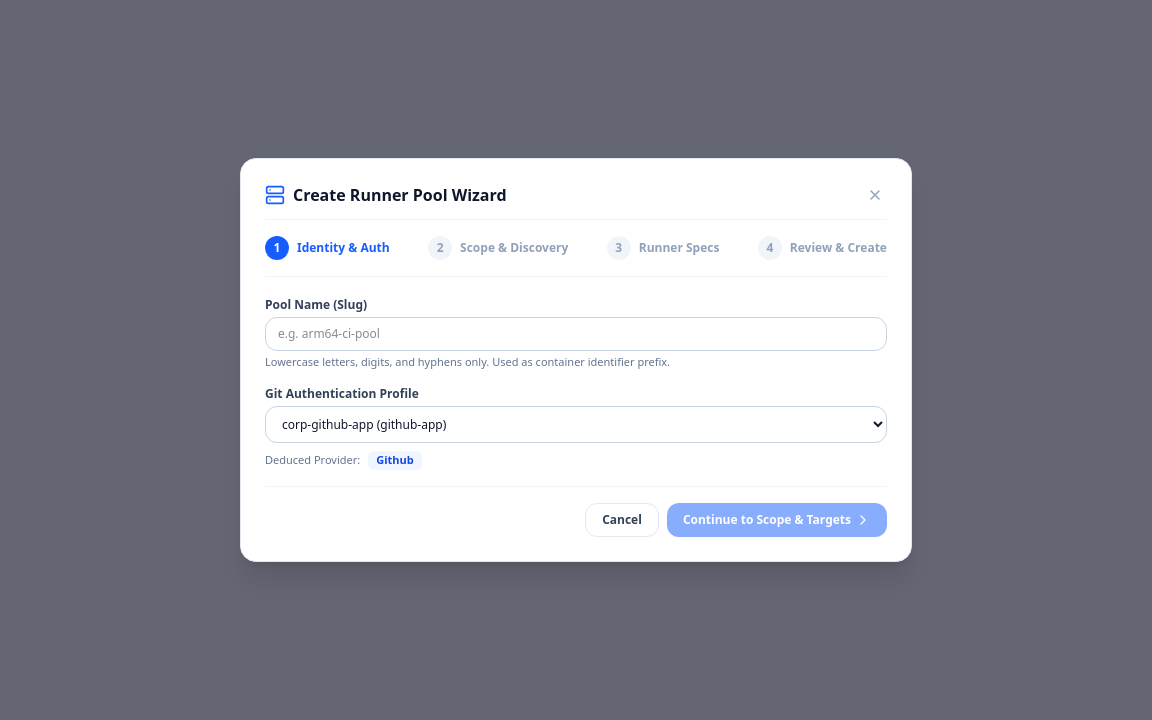
Test: CreatePoolWizardModal › supports multi-target selection and 'Select All Filtered' on Step 2
Type "ci-pool" into the field labelled "Pool Name (Slug)" at (576, 334), box [265,317,887,351]
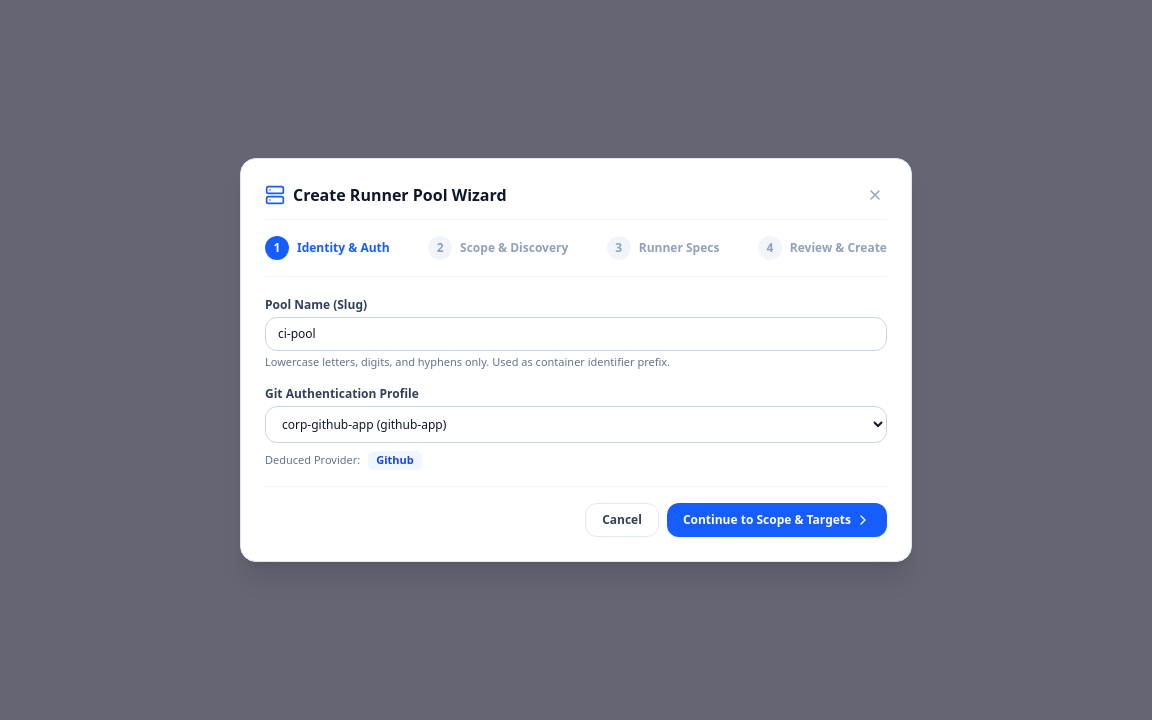
Click the button "Continue to Scope & Targets" at (777, 520), box [667,503,887,537]
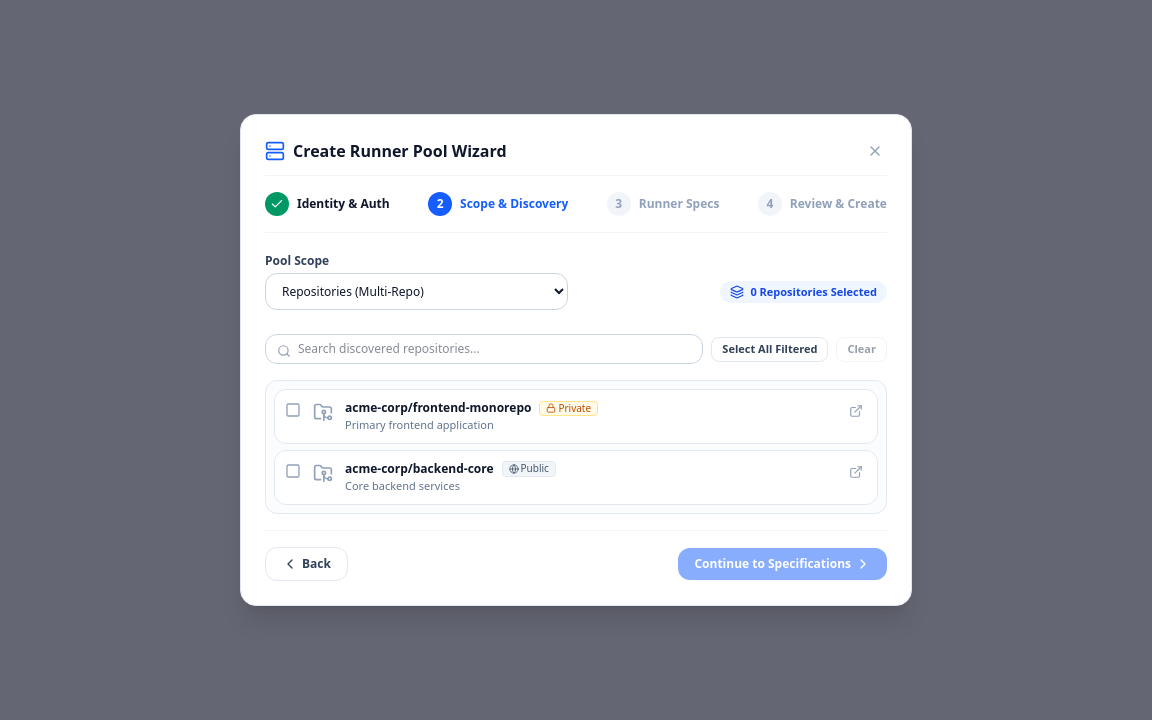
Expected: the text "acme-corp/frontend-monorepo" is shown, [345,400,531,416]
Expected: the text "acme-corp/backend-core" is shown, [345,461,494,477]
Expected: the button "Continue to Specifications" is disabled, [678,548,887,580]
Note: Click "Select All Filtered"
Click the button "Select All Filtered" at (770, 349), box [711,337,828,362]
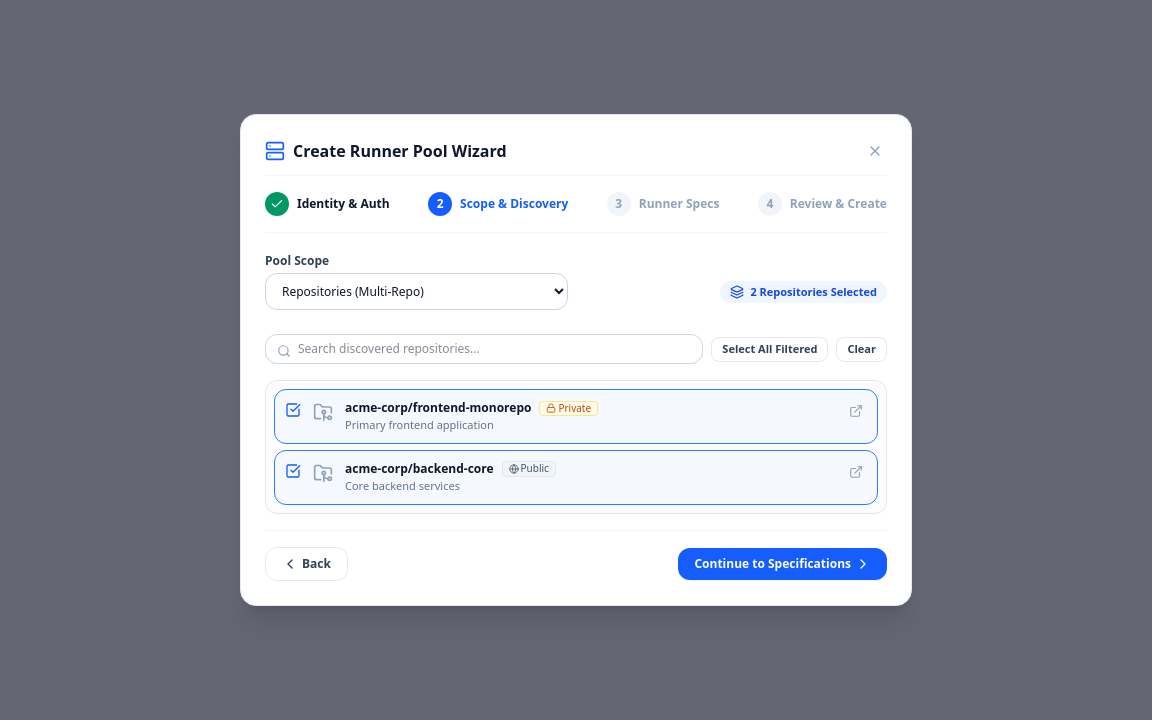
Expected: the text "2 Repositories Selected" is shown, [750,284,877,299]
Expected: the button "Continue to Specifications" is enabled, [678,548,887,580]
Note: Deselect one by clicking its card
Click the text "acme-corp/frontend-monorepo" at (438, 408), box [345,400,531,416]
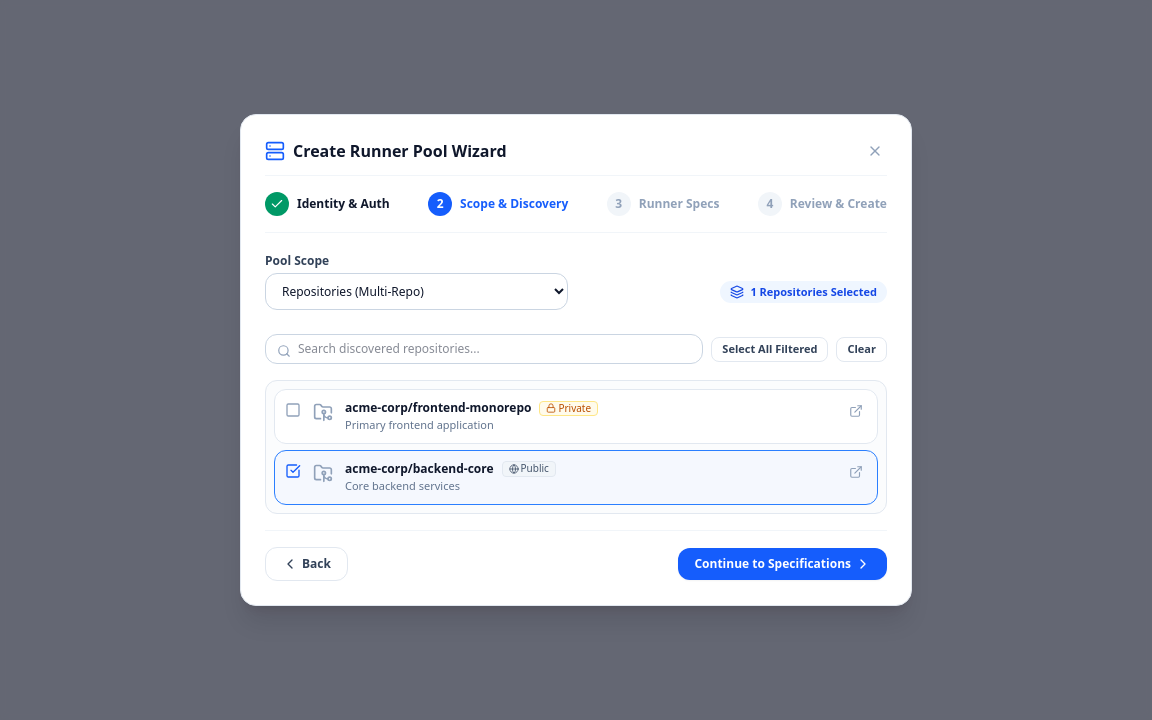
Expected: the button "Continue to Specifications" is enabled, [678,548,887,580]
Expected: the text "1 Repositories Selected" is shown, [750,284,877,299]
